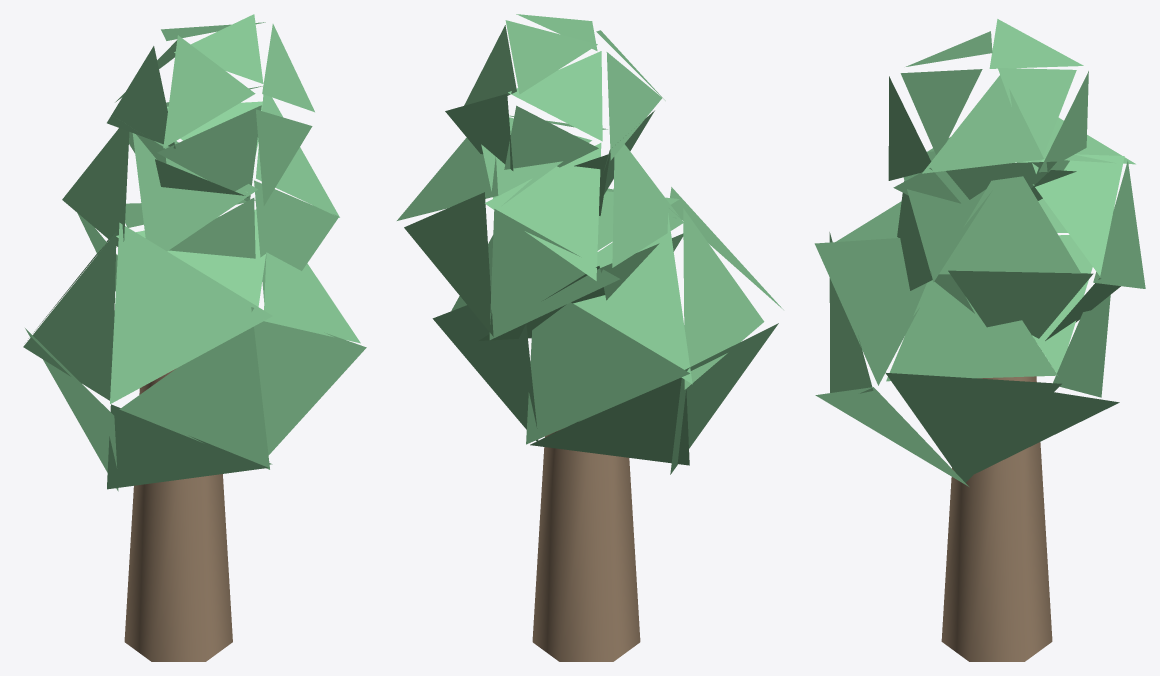
File: tree_round_0.glb
3 renders of one model, left to right at view 1: azimuth 30°, elevation 25°; view 2: azimuth 150°, elevation 25°; view 3: azimuth 270°, elevation 25°, orthographic. The views are drawn at different scales.
Visible parts, largest first — view 1: tree_round_0; view 2: tree_round_0; view 3: tree_round_0.
Boxes of the visible parts, bbox=[...] form: tree_round_0: bbox=[23, 14, 366, 661]; tree_round_0: bbox=[397, 14, 783, 661]; tree_round_0: bbox=[814, 19, 1145, 661].
Size of the model in its own units: 1.05 by 2.24 by 1.08.
